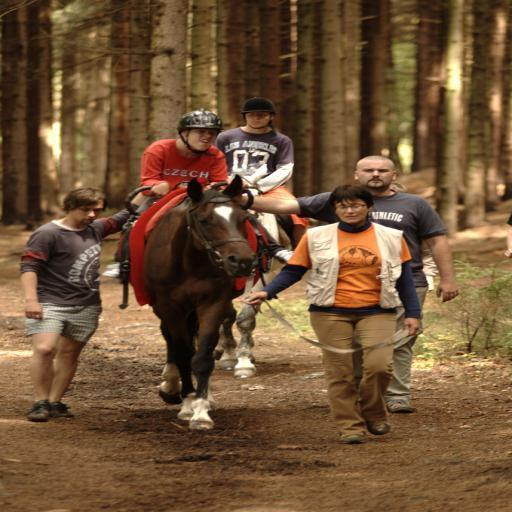horse: (144, 174, 262, 432), (215, 165, 281, 378)
